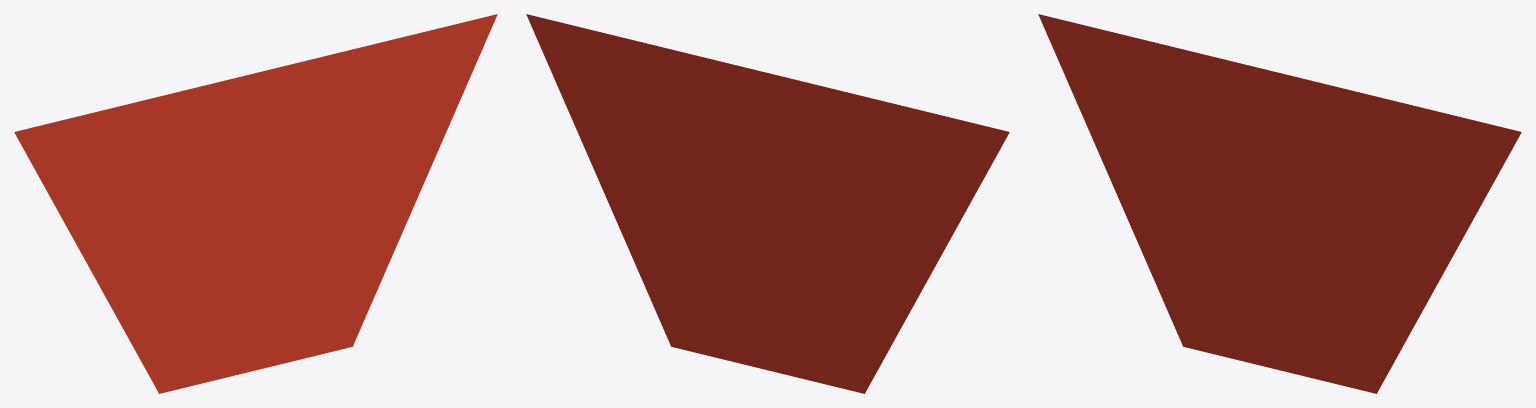
Rendered from triangle.fbx.
3 renders of one model, left to right at view 1: azimuth 30°, elevation 25°; view 2: azimuth 150°, elevation 25°; view 3: azimuth 330°, elevation 25°, orthographic.
Parts seen in each view (by area): view 1: Triangle; view 2: Triangle; view 3: Triangle.
Part boxes in pixels (<box>): Triangle: <box>14,14,497,393</box>; Triangle: <box>526,14,1009,393</box>; Triangle: <box>1038,14,1521,393</box>.
Size of the model in its own units: 100 by 58.74 by 0.
